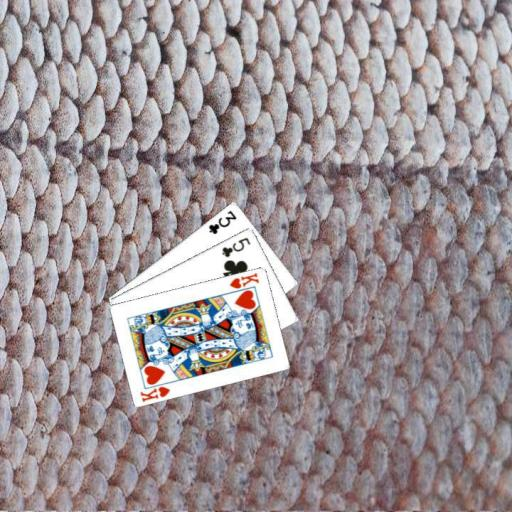3C: (206, 207, 238, 235)
5C: (219, 234, 252, 259)
KH: (137, 383, 172, 403), (227, 270, 260, 290)
